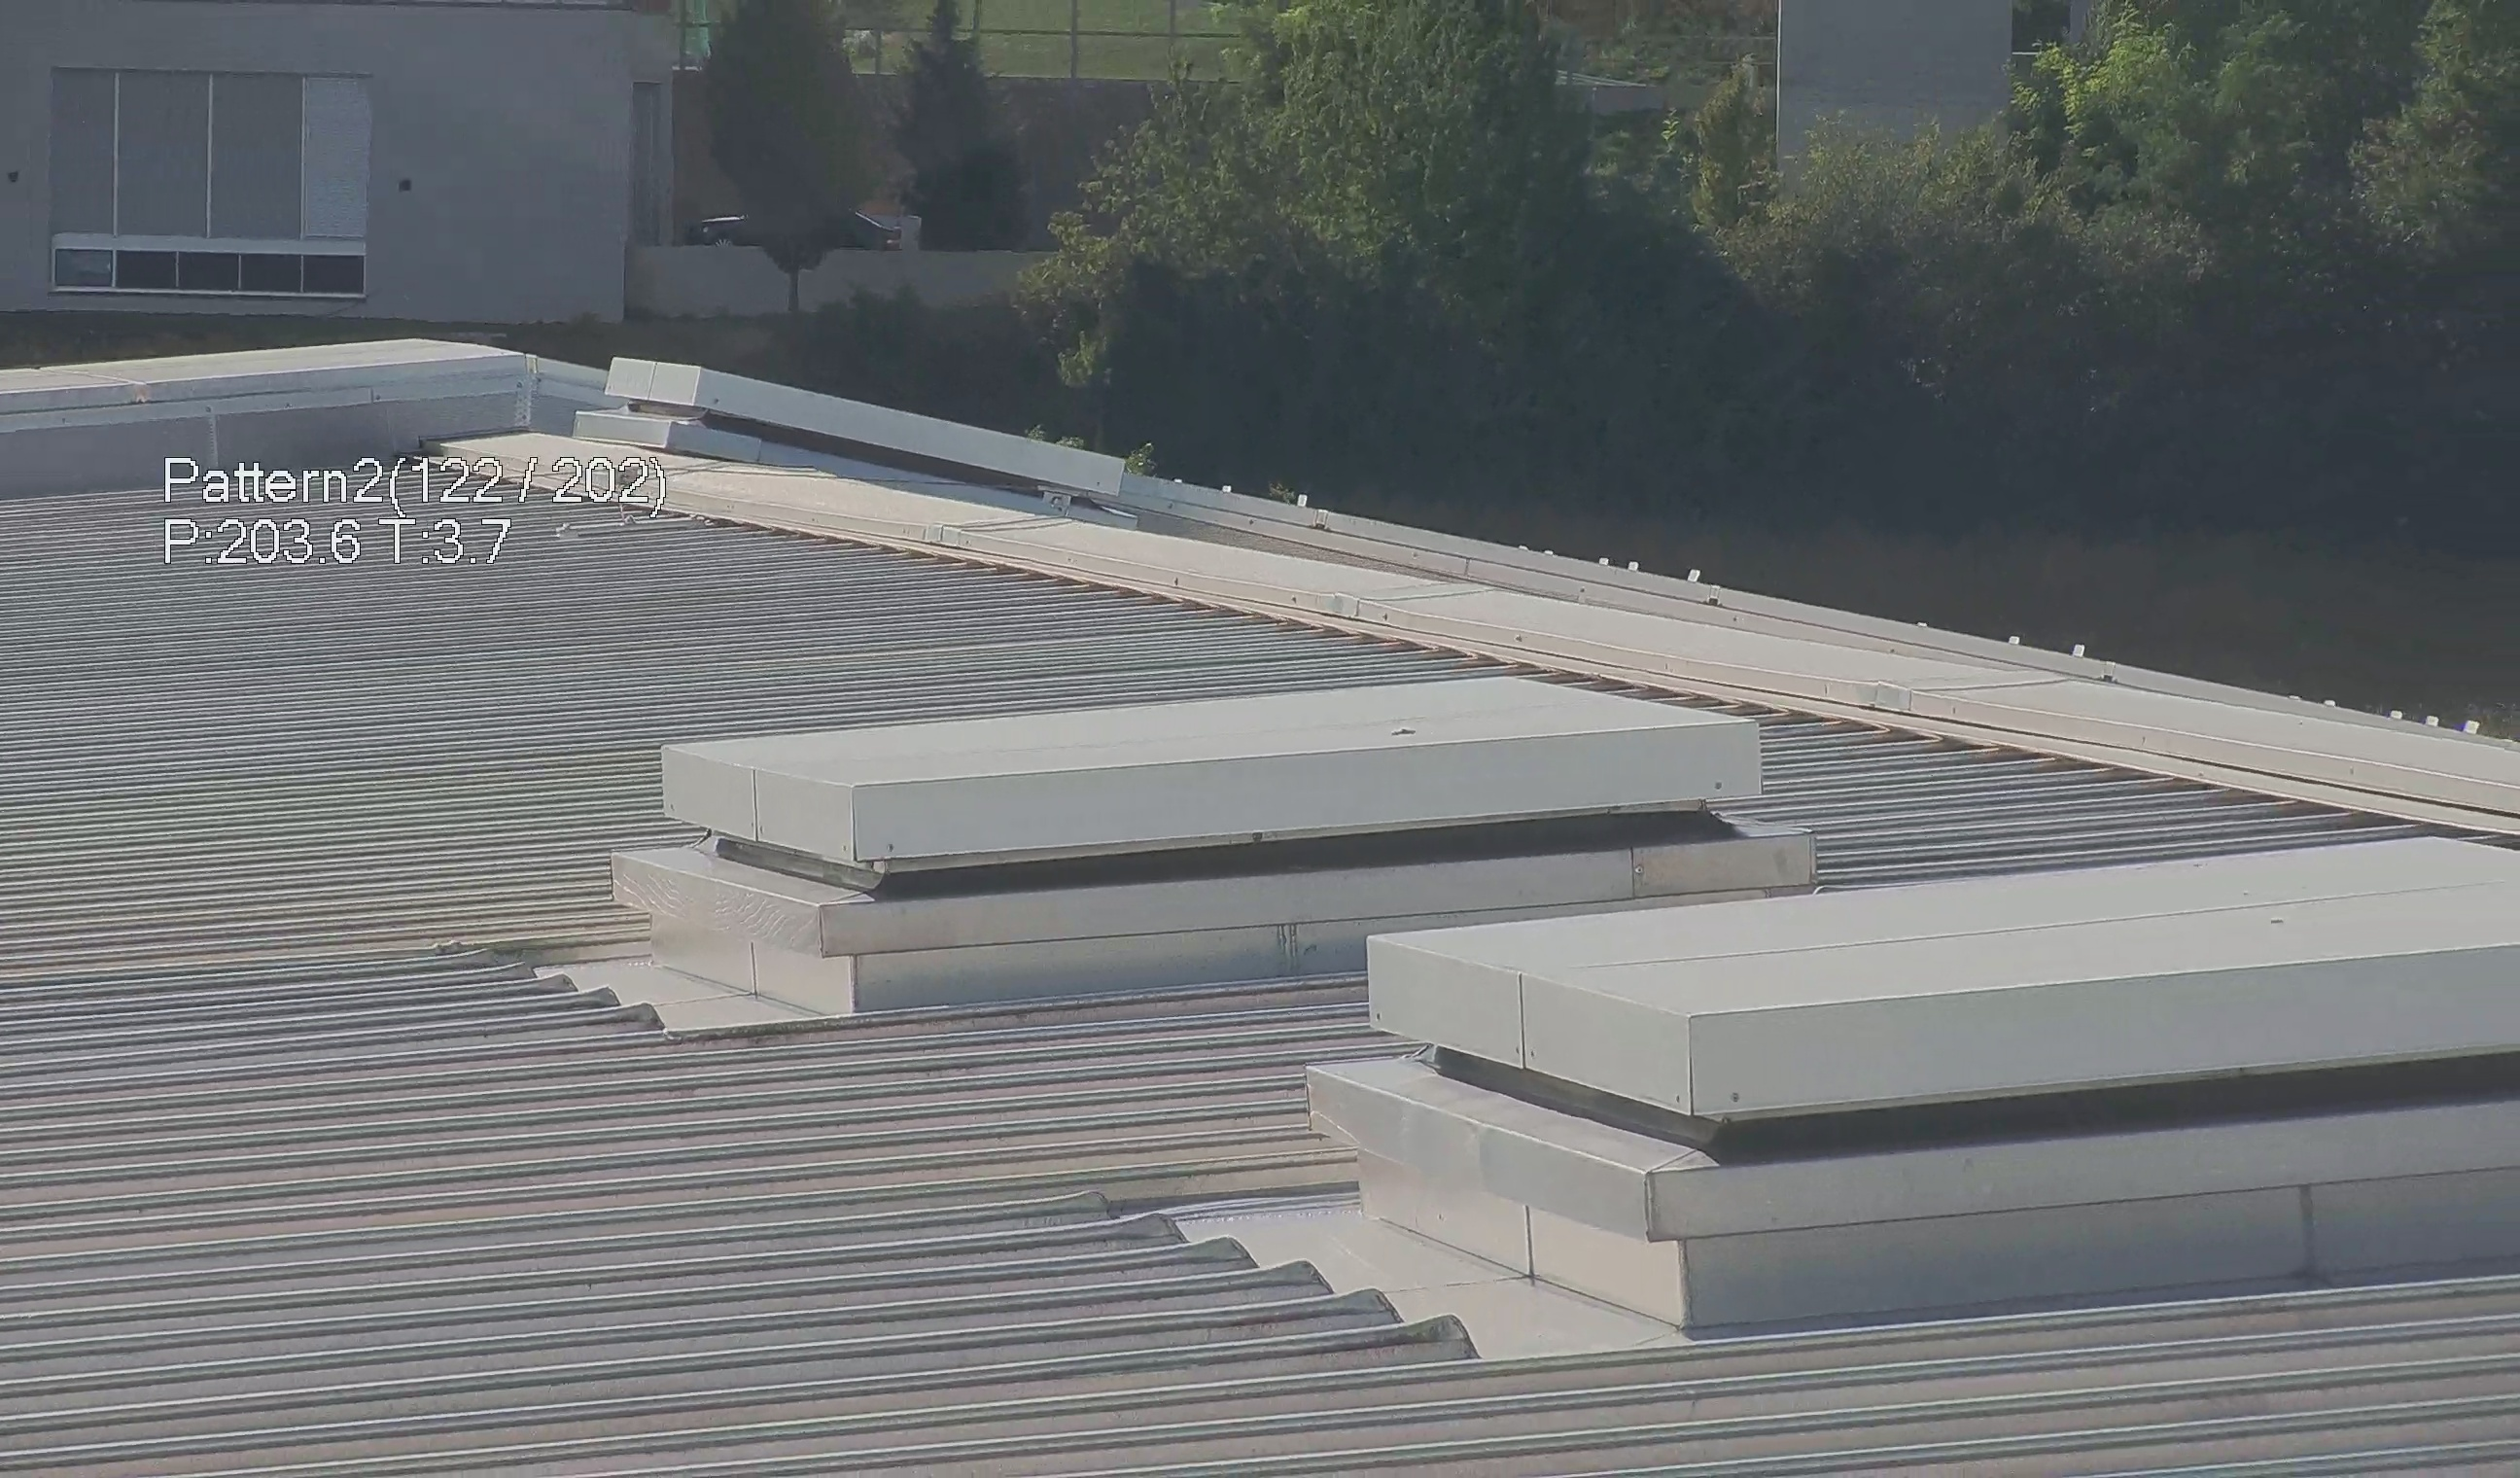Other: (689, 169, 906, 301)
